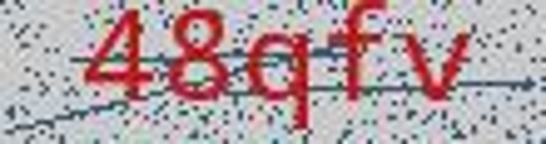4: (76, 3, 154, 113)
8: (163, 2, 239, 117)
f: (320, 1, 393, 111)
q: (242, 24, 316, 144)
v: (397, 16, 488, 112)
